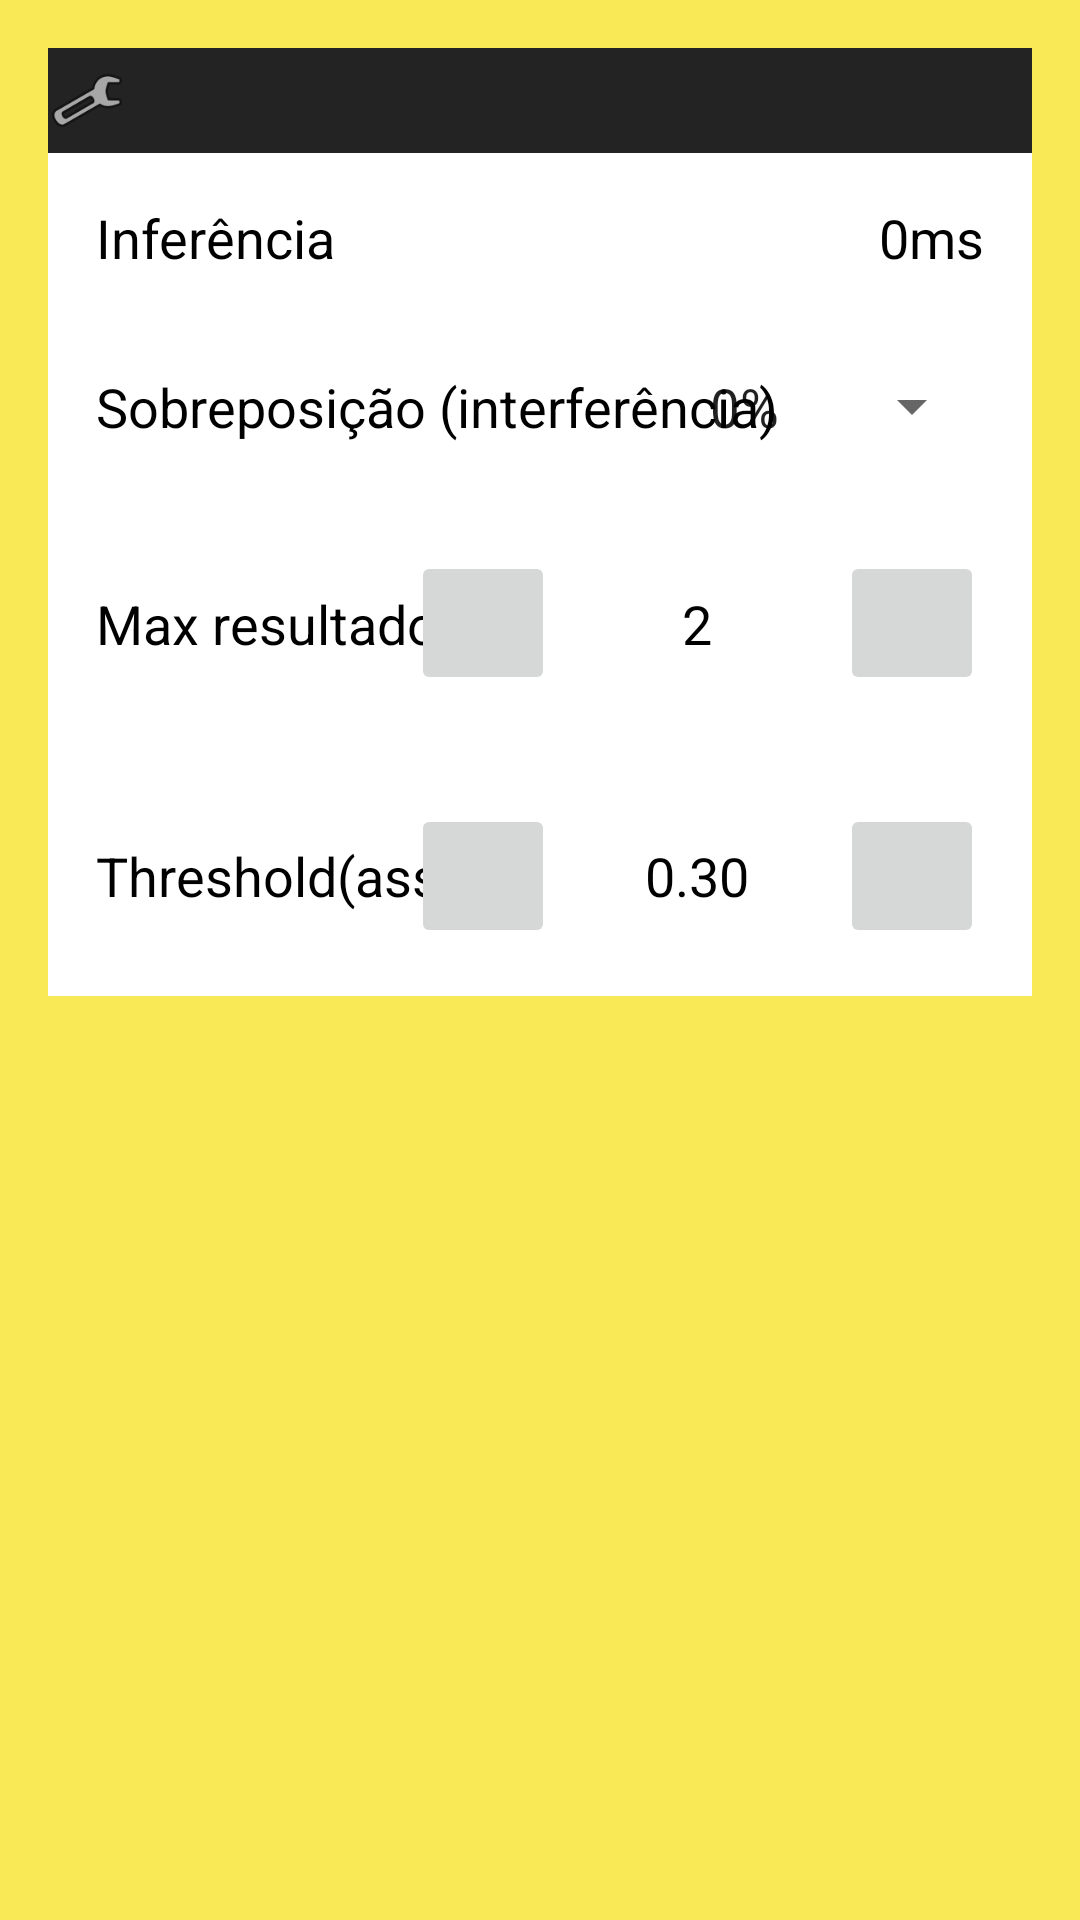

Icon click points for this 1080w x 1920h phone screenshot, format (x=x, y=y):
preferences: (x=87, y=100)
